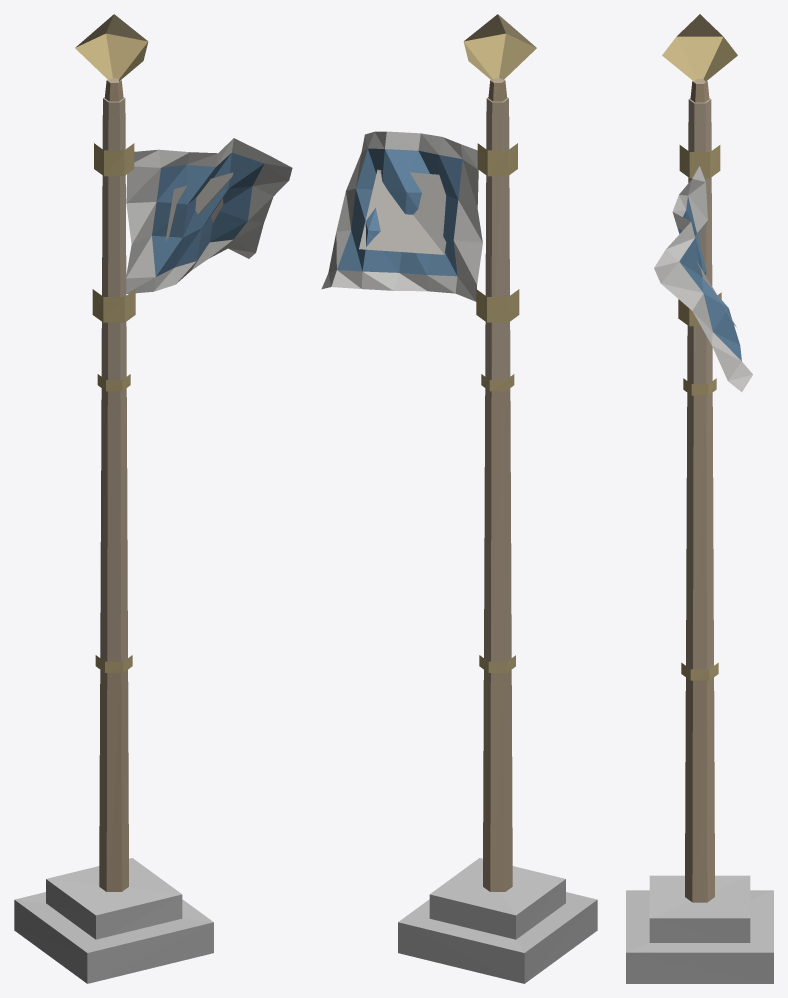
File: flag.square.qingqi__pole.ground.gaogan__masthead.glb
3 renders of one model, left to right at view 1: azimuth 30°, elevation 25°; view 2: azimuth 150°, elevation 25°; view 3: azimuth 270°, elevation 25°, orthographic.
Parts seen in each view (by area): view 1: flag.square.qingqi; view 2: flag.square.qingqi; view 3: flag.square.qingqi.
Part boxes in pixels (x1,y1,x2,y2): flag.square.qingqi: (14, 14, 292, 983); flag.square.qingqi: (321, 14, 597, 983); flag.square.qingqi: (626, 14, 773, 983).
Bounding box in the file's own units: 1.41 × 5.72 × 0.816.
